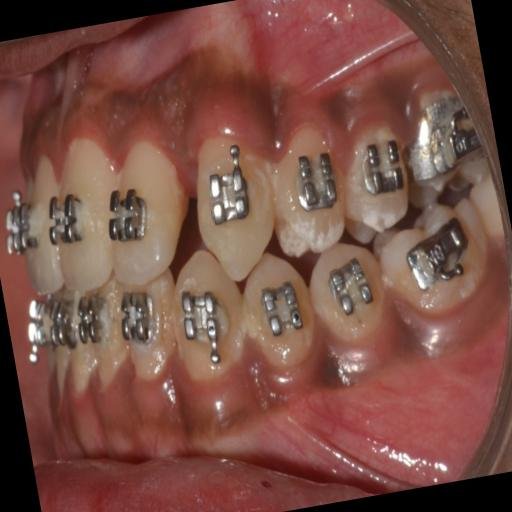correct_brace: (260, 123, 350, 258), (306, 239, 392, 349), (196, 139, 258, 232), (100, 173, 158, 255), (179, 286, 233, 366), (253, 274, 311, 348), (322, 252, 376, 330)
incorrect_brace: (94, 138, 201, 288), (162, 245, 252, 381), (292, 146, 336, 216)
